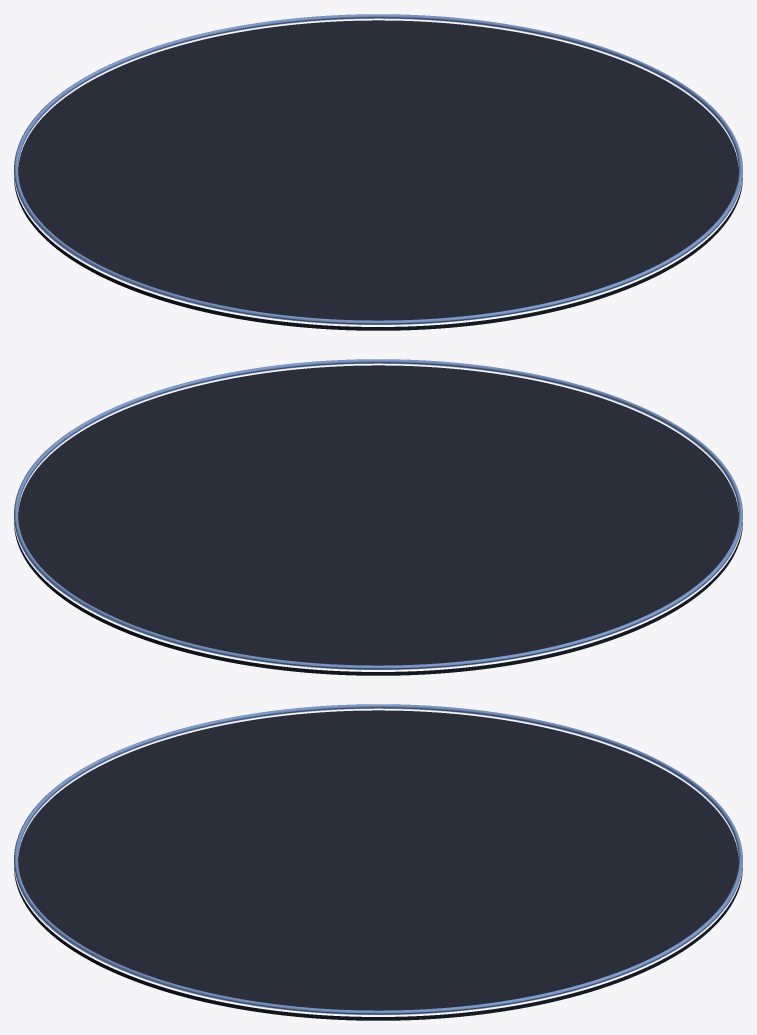
The model's file is mundo_pvp_arena.glb.
3 renders of one model, top to bottom at view 1: azimuth 30°, elevation 25°; view 2: azimuth 150°, elevation 25°; view 3: azimuth 270°, elevation 25°, orthographic.
Visible parts, largest first — view 1: Court_Disc_R6_92, Boundary_Raised_Rim_R7, Court_Outer_Edge_R7, Boundary_Flat_Ring_R7; view 2: Court_Disc_R6_92, Boundary_Raised_Rim_R7, Court_Outer_Edge_R7, Boundary_Flat_Ring_R7; view 3: Court_Disc_R6_92, Boundary_Raised_Rim_R7, Court_Outer_Edge_R7, Boundary_Flat_Ring_R7.
Part boxes in pixels (x1,y1,x2,y2): Court_Disc_R6_92: [18, 20, 738, 320]; Boundary_Raised_Rim_R7: [14, 14, 742, 324]; Court_Outer_Edge_R7: [14, 177, 742, 330]; Boundary_Flat_Ring_R7: [14, 18, 742, 324]; Court_Disc_R6_92: [18, 365, 738, 665]; Boundary_Raised_Rim_R7: [14, 359, 742, 669]; Court_Outer_Edge_R7: [14, 522, 742, 675]; Boundary_Flat_Ring_R7: [14, 363, 742, 669]; Court_Disc_R6_92: [18, 710, 738, 1010]; Boundary_Raised_Rim_R7: [14, 704, 742, 1014]; Court_Outer_Edge_R7: [14, 867, 742, 1020]; Boundary_Flat_Ring_R7: [14, 708, 742, 1014].
Bounding box in the file's own units: 14 × 0.193 × 14.
